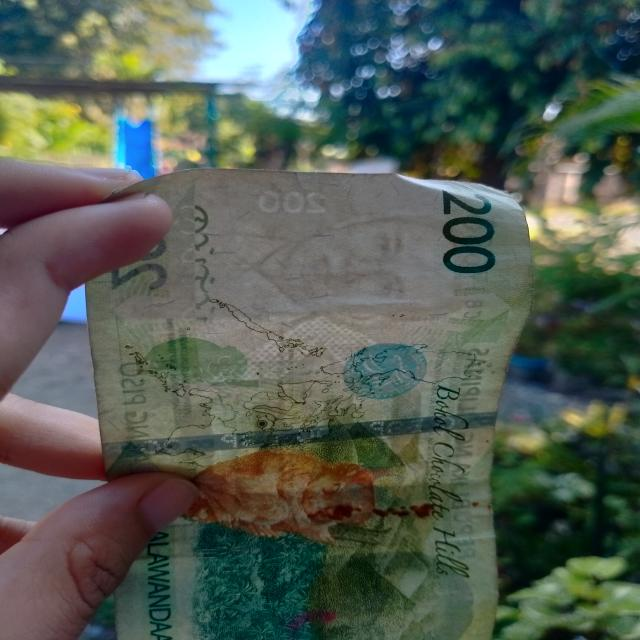security_thread: (109, 410, 500, 452)
see_through_mark: (168, 202, 222, 334)
value_watermark: (262, 187, 328, 216)
watermark: (216, 207, 474, 351)
